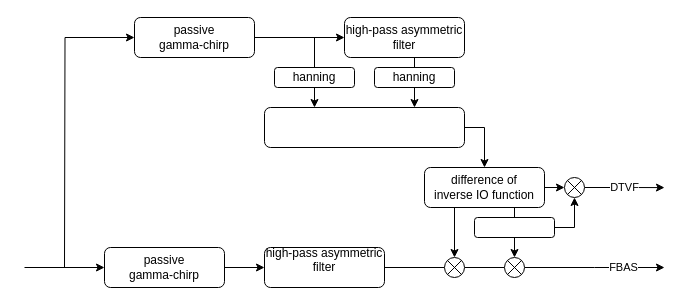
This 690x306 diagram has some shape labels left out. Here are the shapes that lost their labels. From the top down, the centre of each, then its label:
point 364,127: level estimation
point 514,227: passive loss
